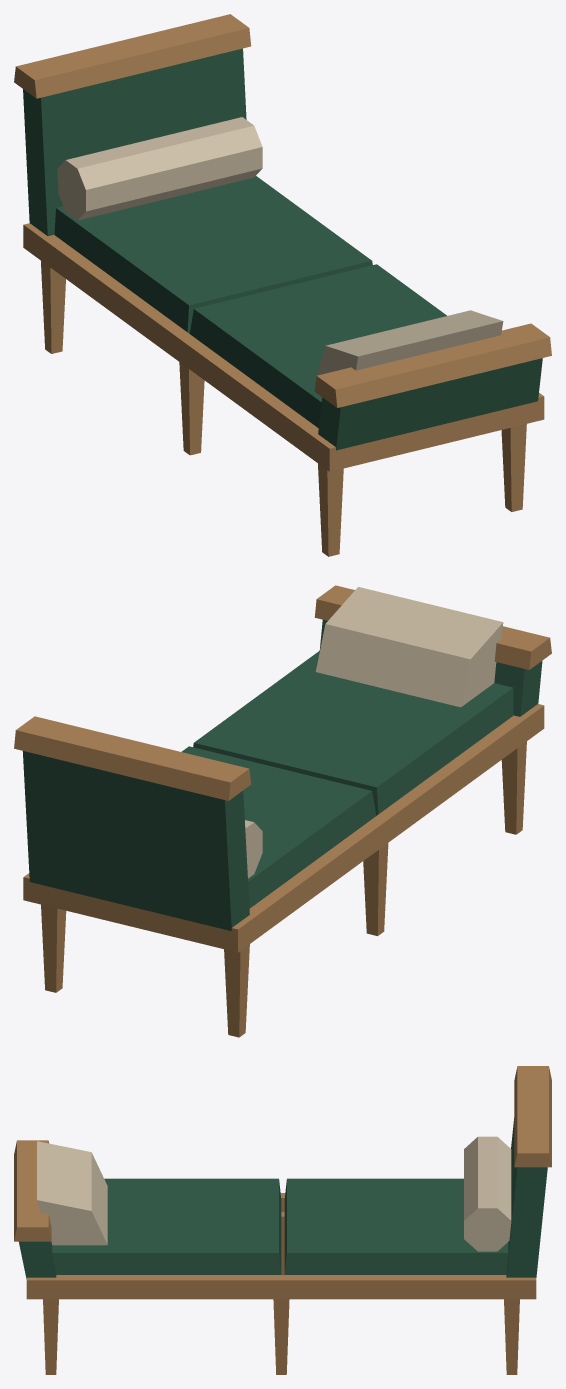
The model's file is FN_Sofa_Chaise.glb.
The picture shows the model from 3 angles, top to bottom: view 1: azimuth 30°, elevation 25°; view 2: azimuth 150°, elevation 25°; view 3: azimuth 270°, elevation 25°; orthographic projection. The views are drawn at different scales.
Parts seen in each view (by area): view 1: FN_Sofa_Chaise; view 2: FN_Sofa_Chaise; view 3: FN_Sofa_Chaise.
Part boxes in pixels (x1,y1,x2,y2): FN_Sofa_Chaise: [14, 14, 551, 556]; FN_Sofa_Chaise: [14, 585, 551, 1037]; FN_Sofa_Chaise: [14, 1066, 551, 1374].
Size of the model in its own units: 0.68 by 0.822 by 1.77.
Materials: 1 (1 with a texture image).
